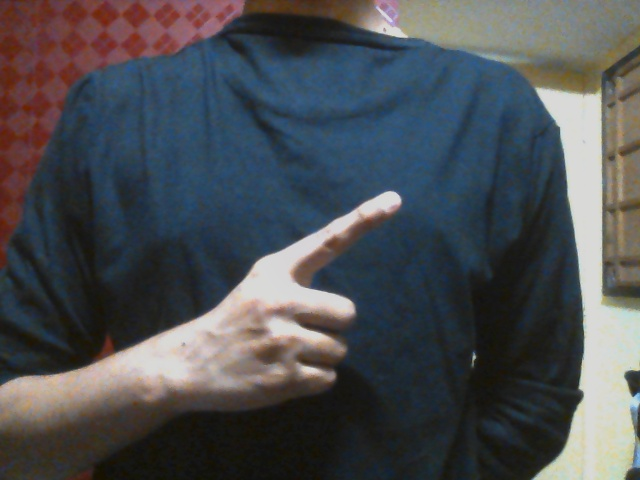I: (198, 189, 403, 411)
